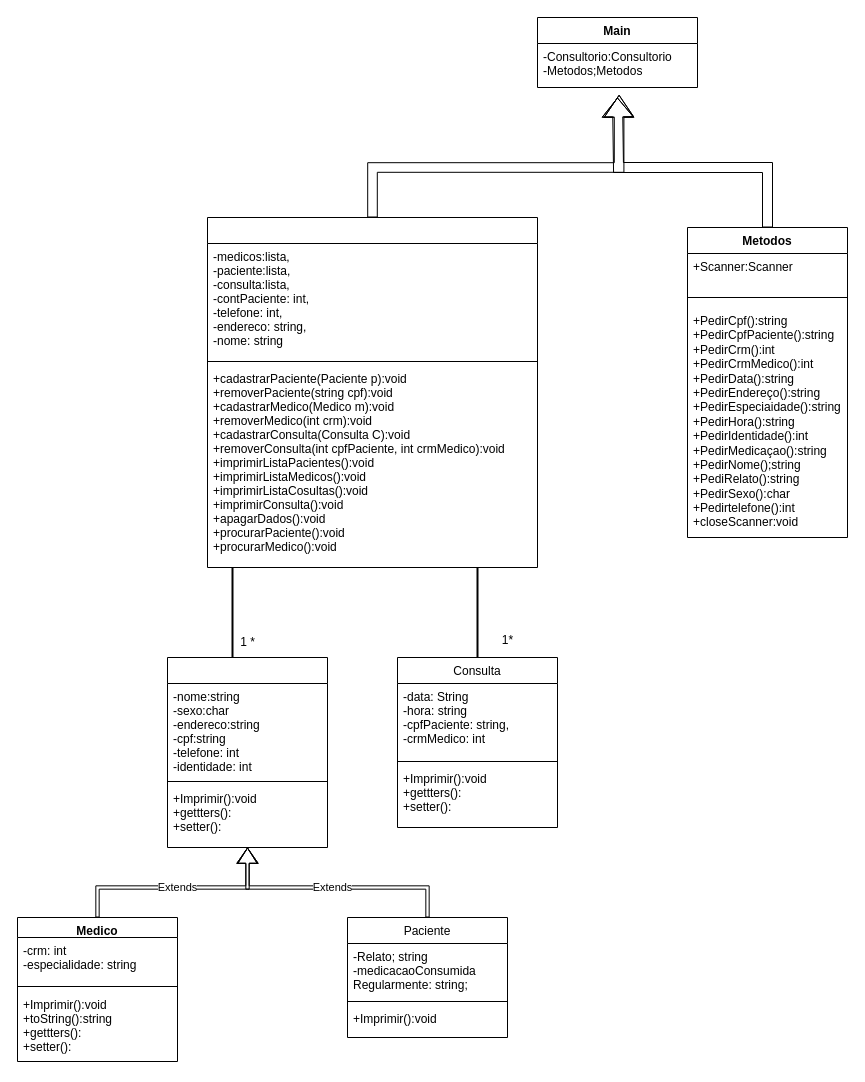
The diagram is 865 pixels wide and 1082 high, and some of its shapes have lost their labels. Here are the shapes that lost their labels. From the top down, the box of each, then its label:
(206, 216, 538, 568): Consultorio
(166, 656, 328, 848): Pessoa
